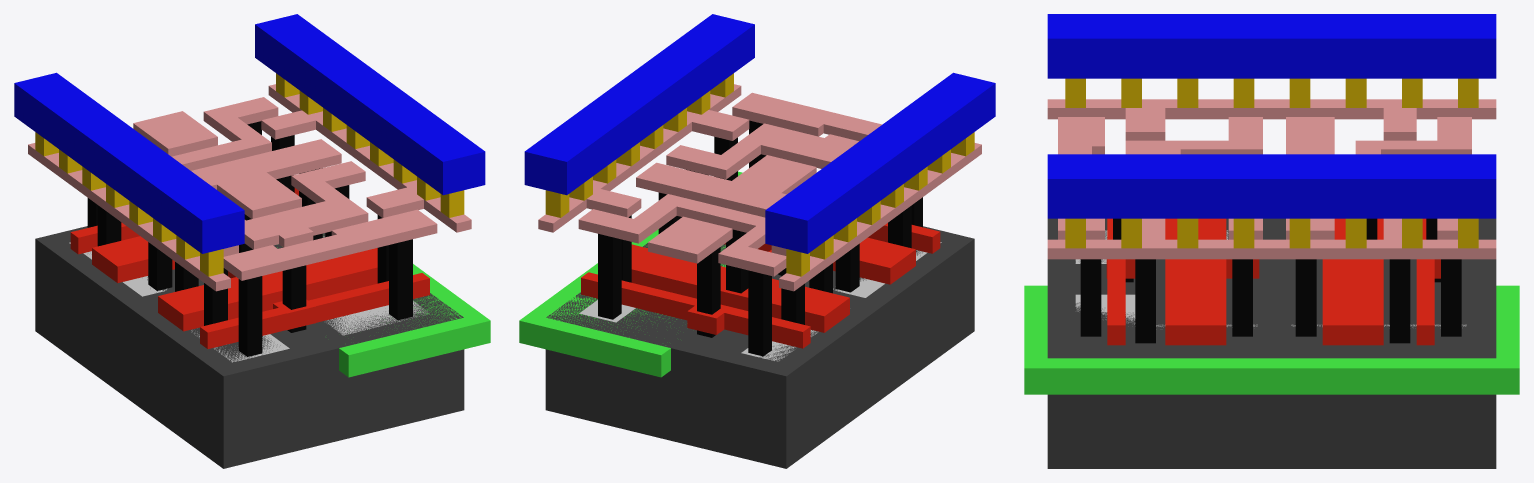
File: sky130_fd_sc_hd__dlygate4sd3_1.obj
The picture shows the model from 3 angles, left to right: view 1: azimuth 30°, elevation 25°; view 2: azimuth 150°, elevation 25°; view 3: azimuth 270°, elevation 25°; orthographic projection. The views are drawn at different scales.
Visible parts, largest first — view 1: subs, metal1, li, poly, licon, nwell, mcon, tap, diff; view 2: subs, metal1, li, poly, licon, nwell, mcon, diff; view 3: metal1, subs, li, nwell, poly, licon, mcon, tap.
Boxes of the visible parts, left/top/right/bottom form: subs: left=35, top=226, right=464, bottom=468; metal1: left=14, top=14, right=485, bottom=253; li: left=28, top=84, right=471, bottom=291; poly: left=70, top=188, right=429, bottom=348; licon: left=87, top=121, right=412, bottom=356; nwell: left=277, top=247, right=490, bottom=377; mcon: left=35, top=73, right=464, bottom=276; tap: left=323, top=236, right=428, bottom=335; diff: left=69, top=242, right=289, bottom=362; subs: left=545, top=226, right=974, bottom=468; metal1: left=524, top=14, right=995, bottom=253; li: left=538, top=84, right=981, bottom=291; poly: left=581, top=223, right=940, bottom=348; licon: left=598, top=120, right=922, bottom=356; nwell: left=519, top=171, right=742, bottom=377; mcon: left=545, top=73, right=974, bottom=276; diff: left=741, top=242, right=941, bottom=361; metal1: left=1047, top=14, right=1496, bottom=218; subs: left=1047, top=218, right=1496, bottom=468; li: left=1047, top=99, right=1496, bottom=259; nwell: left=1024, top=285, right=1519, bottom=394; poly: left=1106, top=218, right=1440, bottom=345; licon: left=1080, top=218, right=1461, bottom=343; mcon: left=1065, top=78, right=1478, bottom=248; tap: left=1075, top=294, right=1466, bottom=327.
Size of the model in its own units: 3.2 by 2.74 by 4.06.
